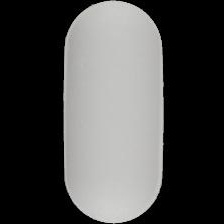43353-677: (0, 0, 224, 224)
